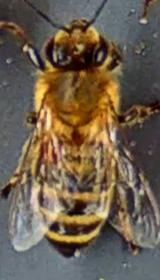varroa_mite: (32, 134, 64, 161)
